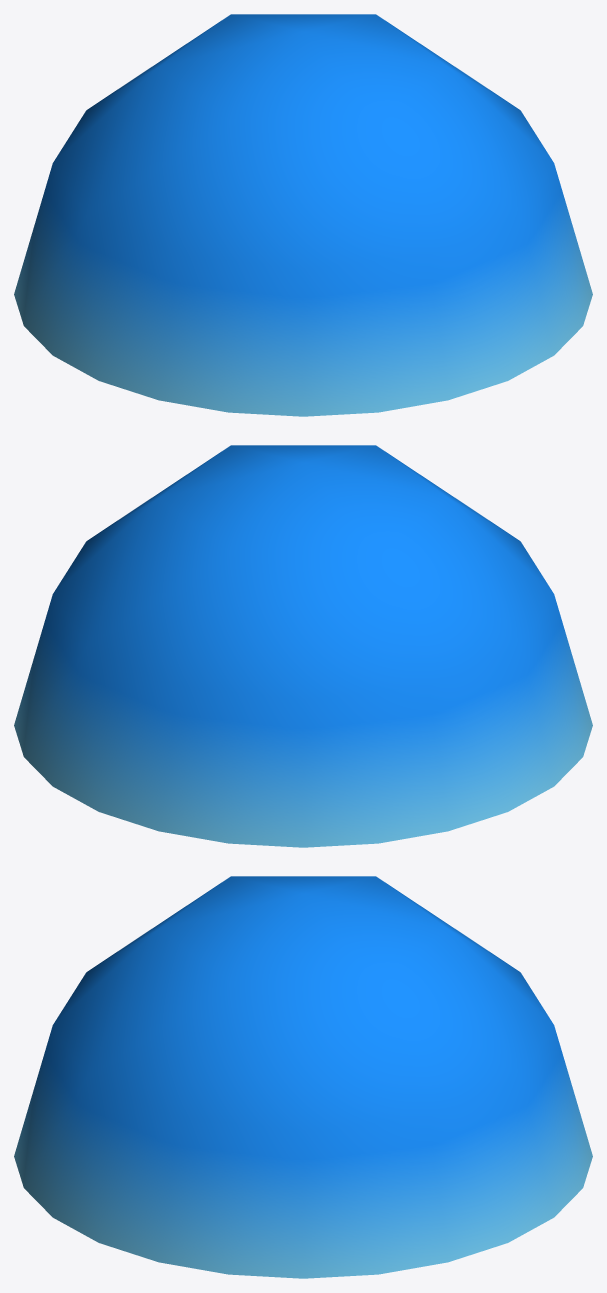
Rendered from FP_jog_island.md.obj.
3 views of the same model, one above another, from view 1: azimuth 30°, elevation 25°; view 2: azimuth 150°, elevation 25°; view 3: azimuth 270°, elevation 25° (orthographic).
Parts seen in each view (by area): view 1: FP_jog_island.mo; view 2: FP_jog_island.mo; view 3: FP_jog_island.mo.
Part boxes in pixels (box(x1,y1,x2,y2)): FP_jog_island.mo: box(14, 14, 592, 416); FP_jog_island.mo: box(14, 445, 592, 847); FP_jog_island.mo: box(14, 876, 592, 1278).
Bounding box in the file's own units: 1400 × 700 × 1400.
Materials: 1 (1 with a texture image).
